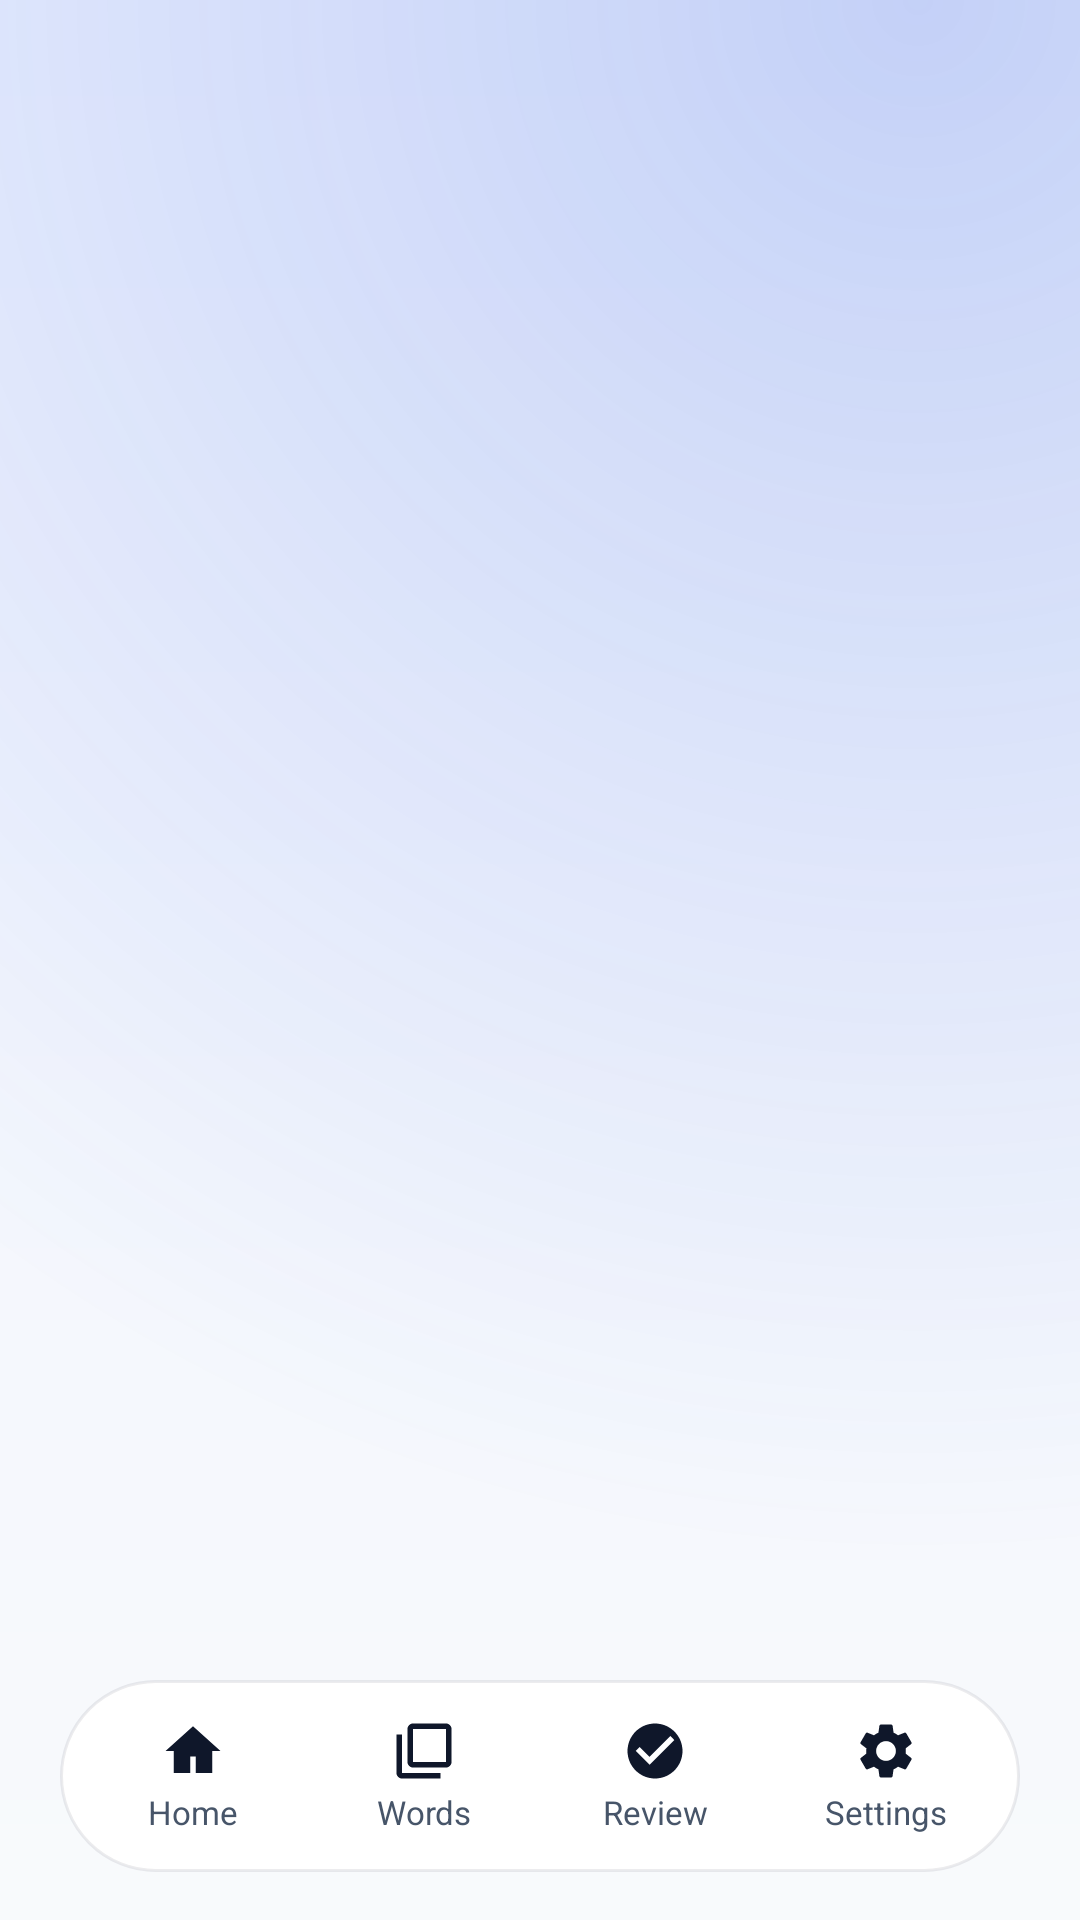

Where to tap for icons on this 1080*1920 app screen, as [x,y]:
cards: [424,1751]
check: [655,1751]
